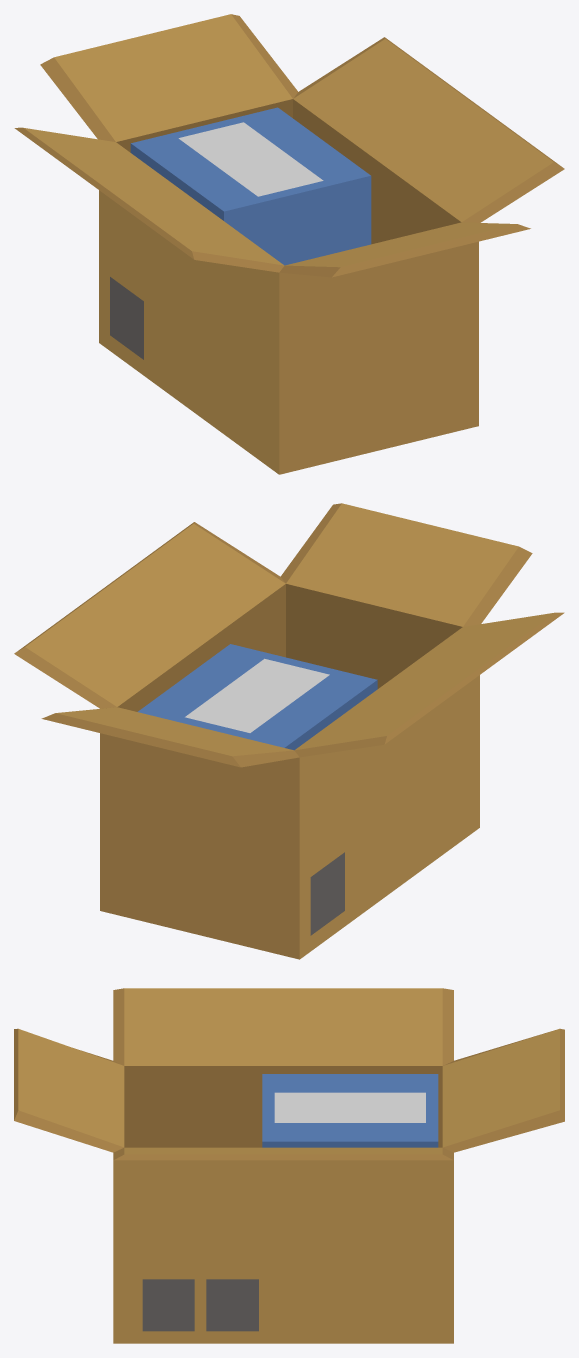
The model's file is CardboardBox3.glb.
3 renders of one model, top to bottom at view 1: azimuth 30°, elevation 25°; view 2: azimuth 150°, elevation 25°; view 3: azimuth 270°, elevation 25°, orthographic. The views are drawn at different scales.
Visible parts, largest first — view 1: SI_Prop_CarboardBox_03; view 2: SI_Prop_CarboardBox_03; view 3: SI_Prop_CarboardBox_03.
Part boxes in pixels (x1,y1,x2,y2): SI_Prop_CarboardBox_03: [14, 14, 564, 474]; SI_Prop_CarboardBox_03: [14, 503, 564, 959]; SI_Prop_CarboardBox_03: [14, 988, 564, 1343].
Bounding box in the file's own units: 0.0123 × 0.00764 × 0.0167.
2 materials, 2 textured.
